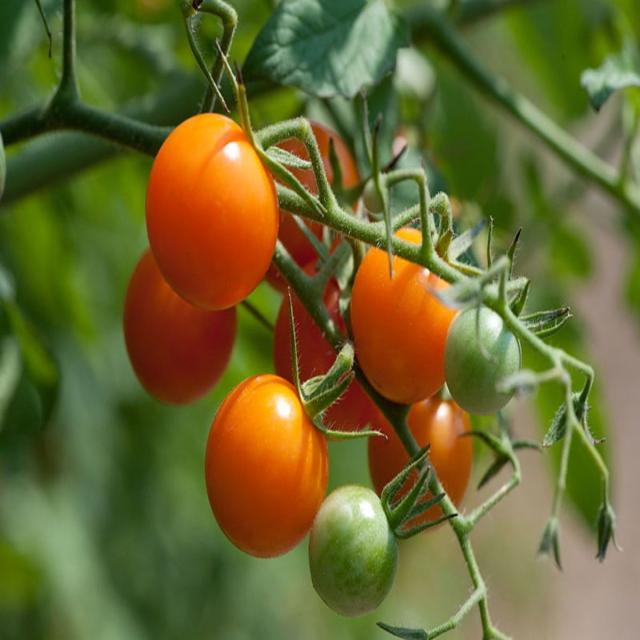level 1: (442, 300, 521, 417)
level 2: (310, 485, 400, 617)
level 4: (368, 392, 472, 530)
level 5: (146, 108, 278, 313), (207, 379, 330, 557), (123, 241, 240, 409), (277, 265, 392, 434), (351, 226, 461, 402), (258, 124, 362, 304)
